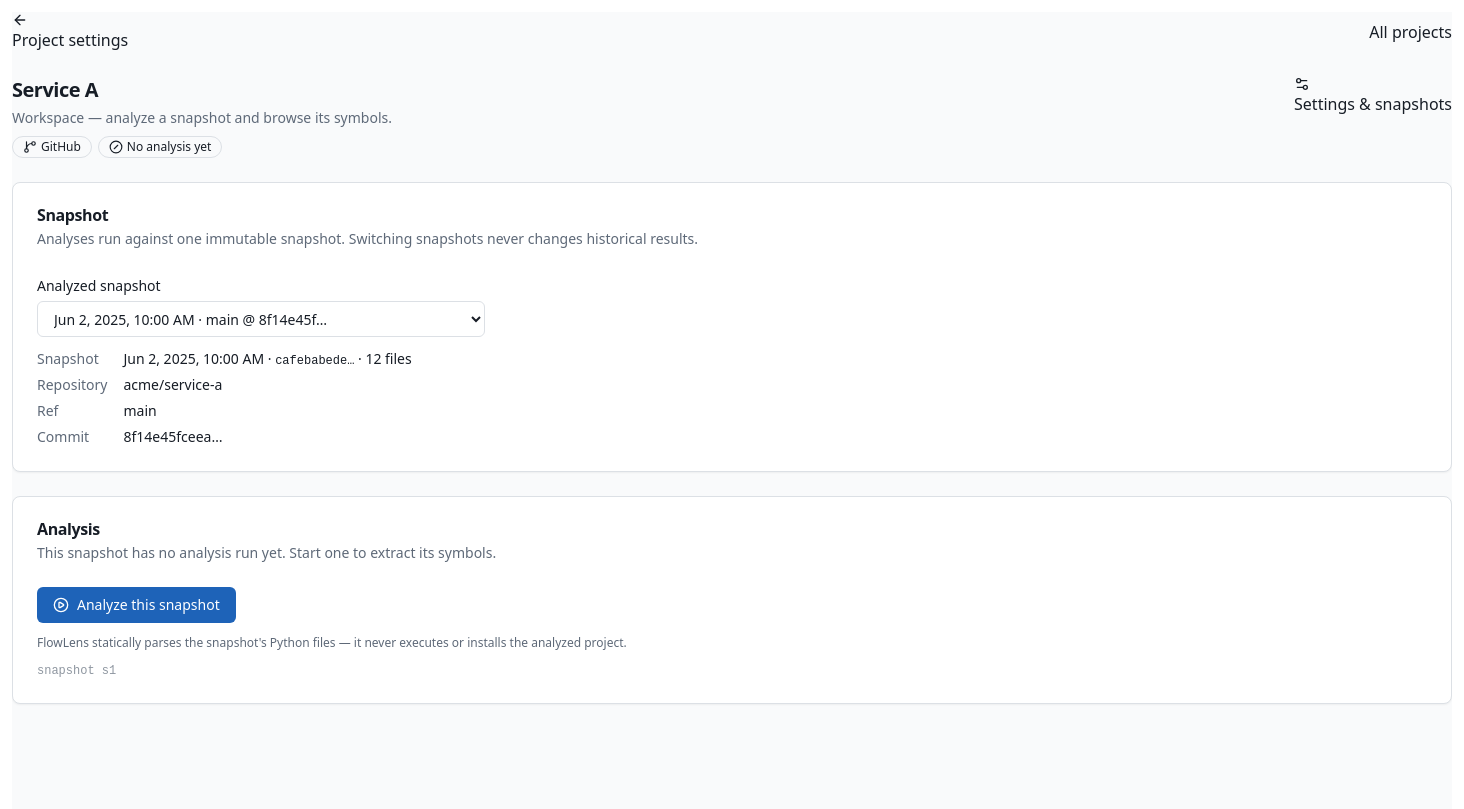
Scenario: project workspace › stops automatically after the polling budget and says so honestly
The width and height of the screenshot is (1464, 809).
Click the button "Analyze this snapshot": (136, 605) [37,587,236,623]
Wait 610000 ms
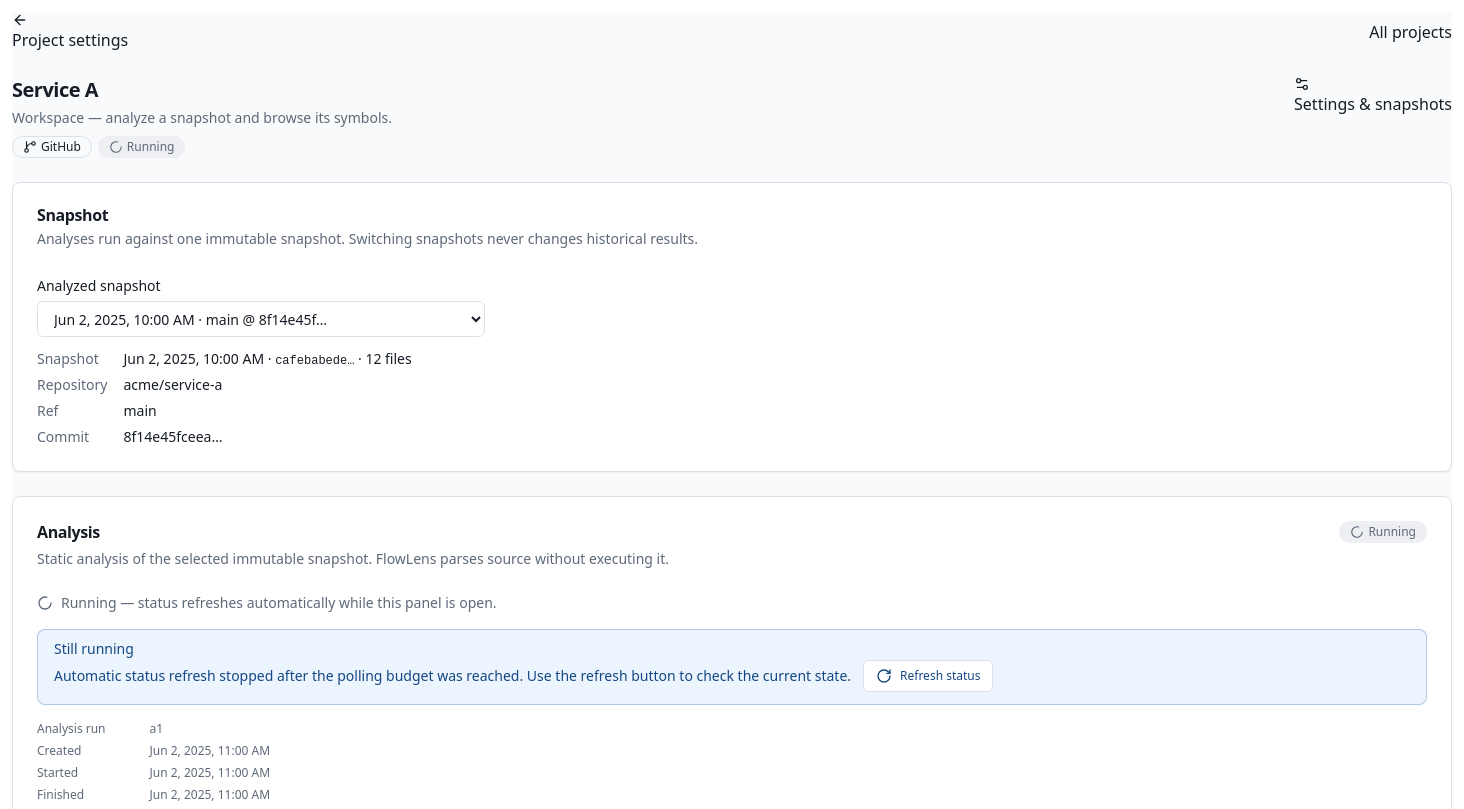
Result: the text "Queued — waiting for the backend" is shown at [37,593,497,612]
Result: the heading "Still running" is shown at [54,639,134,658]
Result: the text "Automatic status refresh stopped after the polling budget" is shown at [54,666,851,685]
